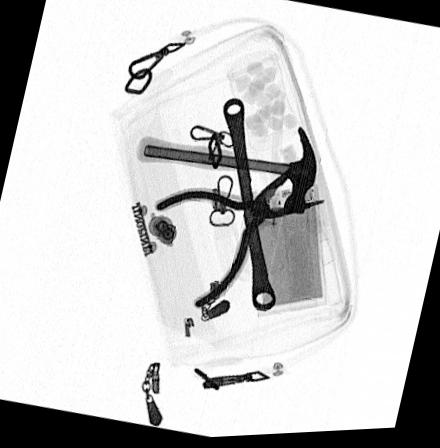Hammer: (137, 128, 317, 216)
Pliers: (153, 159, 327, 310)
Powerbank: (251, 186, 326, 317)
Wrench: (221, 98, 277, 314)
